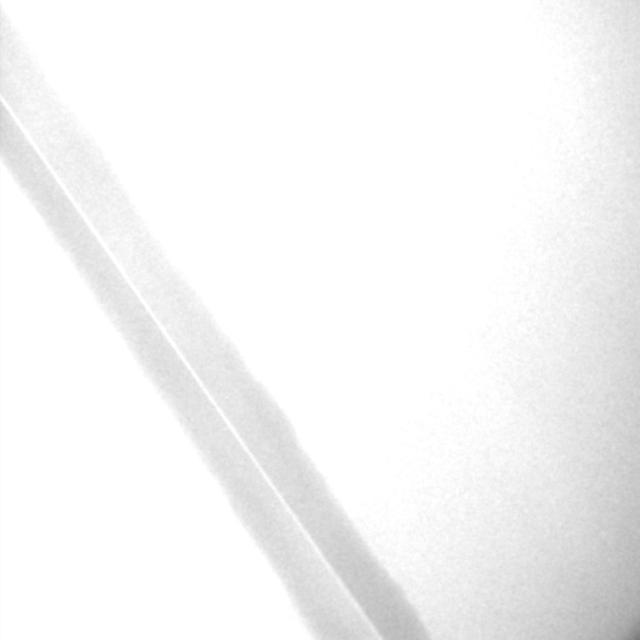broken arc: (2, 98, 378, 636)
